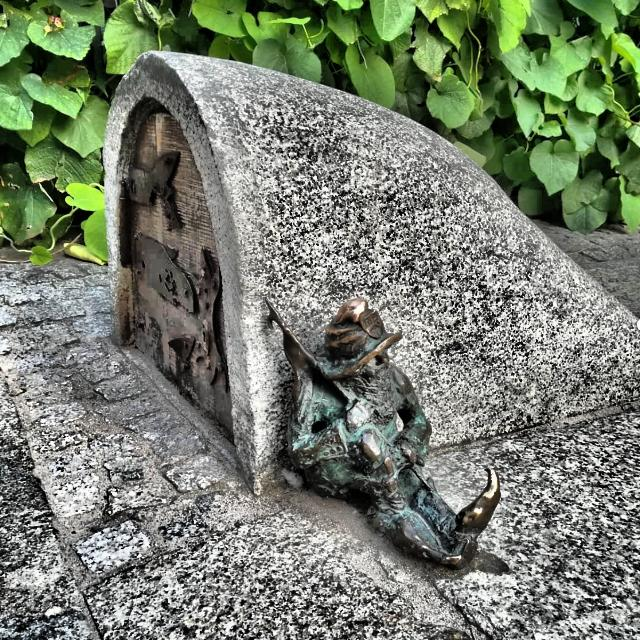Spioch: (268, 299, 499, 569)
